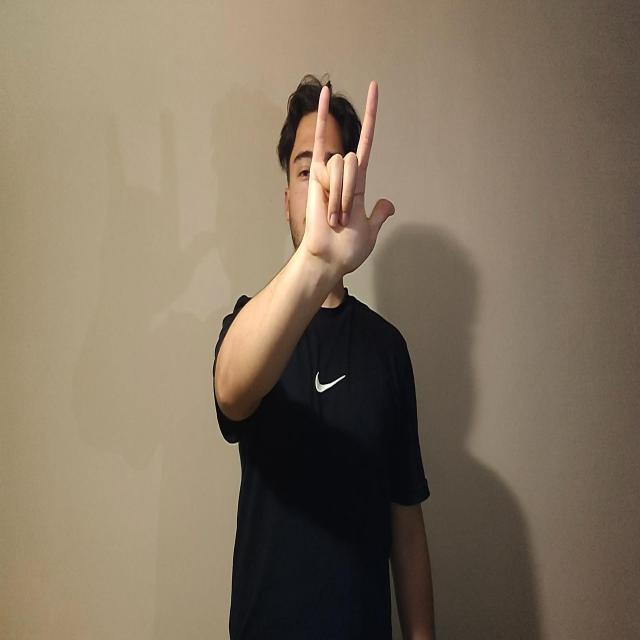iloveyou: (303, 78, 395, 280)
